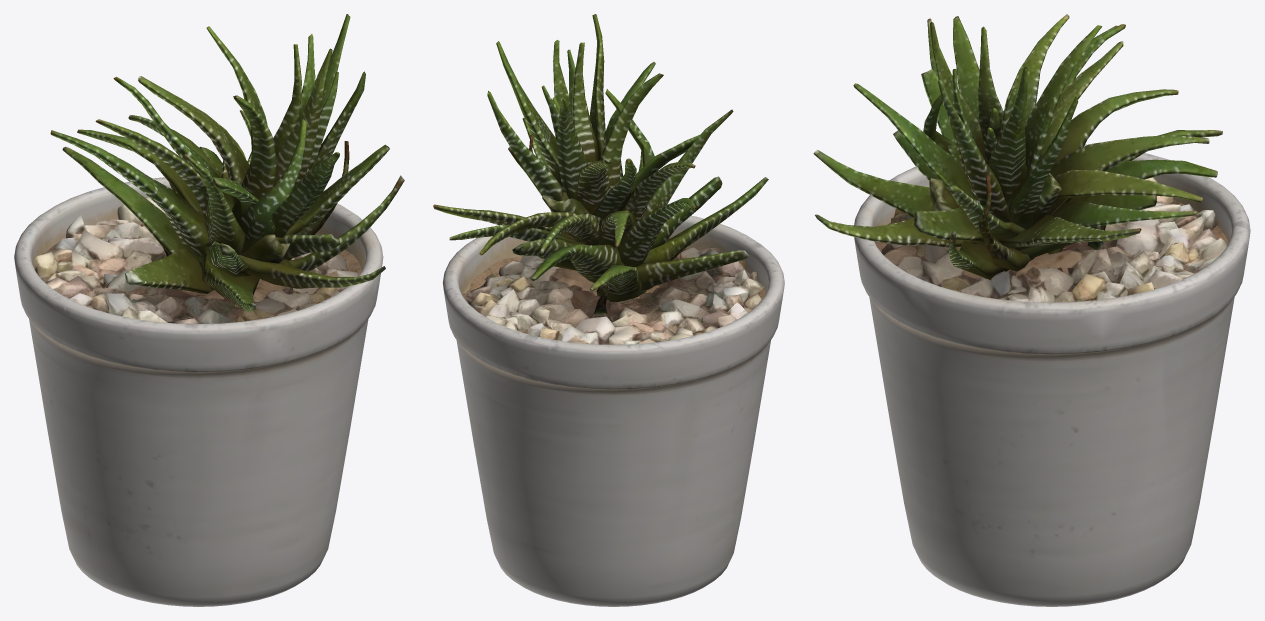
The model's file is potted_plant_04.glb.
3 views of the same model, side by side, from view 1: azimuth 30°, elevation 25°; view 2: azimuth 150°, elevation 25°; view 3: azimuth 270°, elevation 25° (orthographic). The views are drawn at different scales.
Parts seen in each view (by area): view 1: potted_plant_04_ground; view 2: potted_plant_04_ground; view 3: potted_plant_04_ground.
Part boxes in pixels (x1,y1,x2,y2): potted_plant_04_ground: (14, 14, 404, 606); potted_plant_04_ground: (433, 14, 784, 606); potted_plant_04_ground: (813, 14, 1250, 606).
Size of the model in its own units: 0.1679 by 0.2675 by 0.1847.
1 material, 1 textured.
